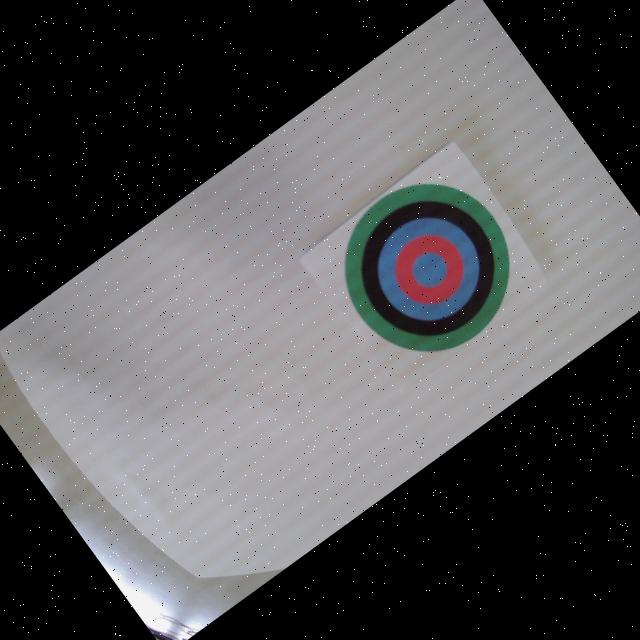COGNITIVE: (310, 148, 546, 384)
